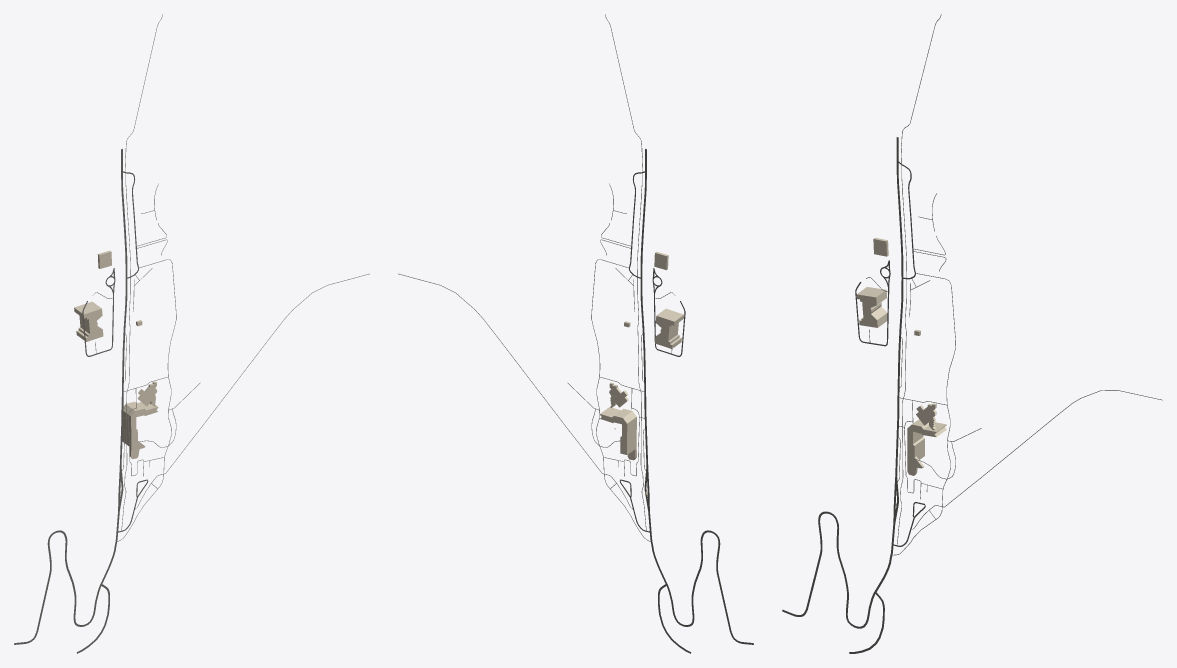
Rendered from historic-palestine-12_17_3536_3116.glb.
3 renders of one model, left to right at view 1: azimuth 30°, elevation 25°; view 2: azimuth 150°, elevation 25°; view 3: azimuth 330°, elevation 25°, orthographic. The views are drawn at different scales.
Parts seen in each view (by area): view 1: Building_.004, Building_, Road, Road .015; view 2: Building_.004, Building_, Road, Road .015; view 3: Building_, Building_.004, Road, Road .015.
Part boxes in pixels (left/top/right/bottom): Building_.004: left=121, top=401, right=158, bottom=447; Building_: left=74, top=301, right=103, bottom=341; Road: left=14, top=530, right=101, bottom=644; Road .015: left=121, top=14, right=162, bottom=530; Building_.004: left=600, top=407, right=636, bottom=454; Building_: left=655, top=308, right=684, bottom=348; Road: left=666, top=530, right=753, bottom=644; Road .015: left=605, top=14, right=646, bottom=530; Building_: left=856, top=287, right=887, bottom=327; Building_.004: left=907, top=419, right=946, bottom=463; Road: left=782, top=511, right=875, bottom=628; Road .015: left=896, top=14, right=941, bottom=545.
Bounding box in the file's own units: 987 × 1641 × 47.7.
